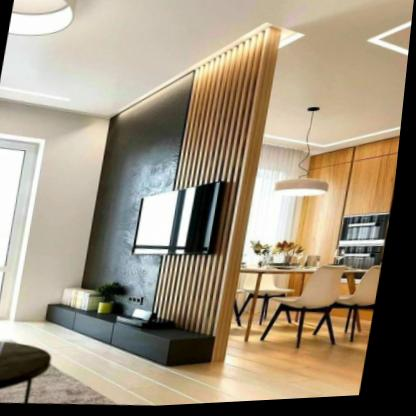Wall Panel: (87, 26, 301, 366)
